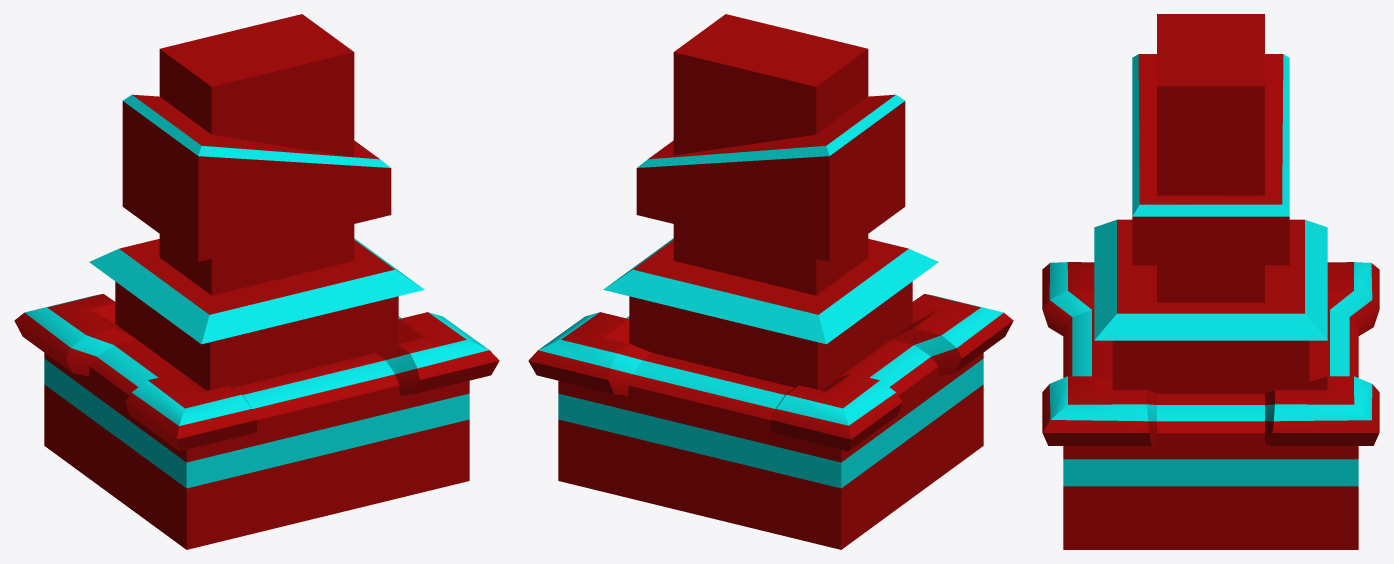
Rendered from GJ_Envrio_Kit_Buildings_HL_23-07-2019_v8.fbx.
3 renders of one model, left to right at view 1: azimuth 30°, elevation 25°; view 2: azimuth 150°, elevation 25°; view 3: azimuth 270°, elevation 25°, orthographic. The views are drawn at different scales.
Parts seen in each view (by area): view 1: Building_1_Market_Flat1; view 2: Building_1_Market_Flat1; view 3: Building_1_Market_Flat1.
Boxes of the visible parts, x1,y1,x2,y2 form: Building_1_Market_Flat1: (14,14,499,549); Building_1_Market_Flat1: (528,14,1013,549); Building_1_Market_Flat1: (1042,14,1379,549).
Size of the model in its own units: 1087 by 1327 by 947.
